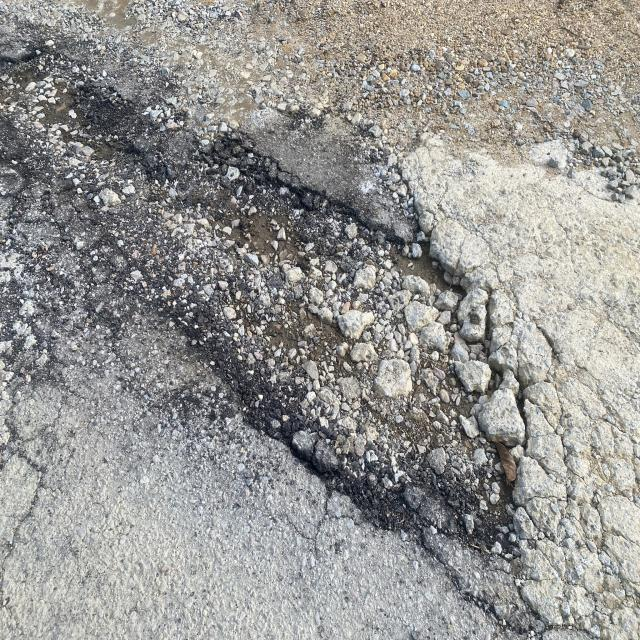pothole: (64, 48, 609, 566)
